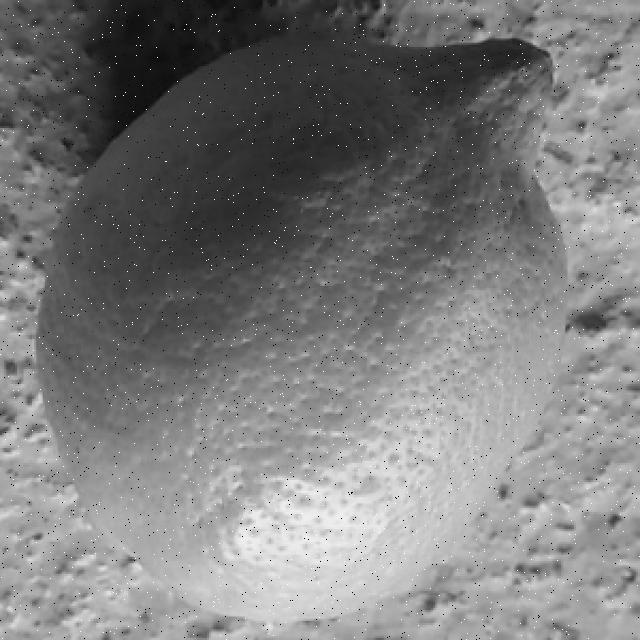Ripe: (33, 22, 580, 628)
